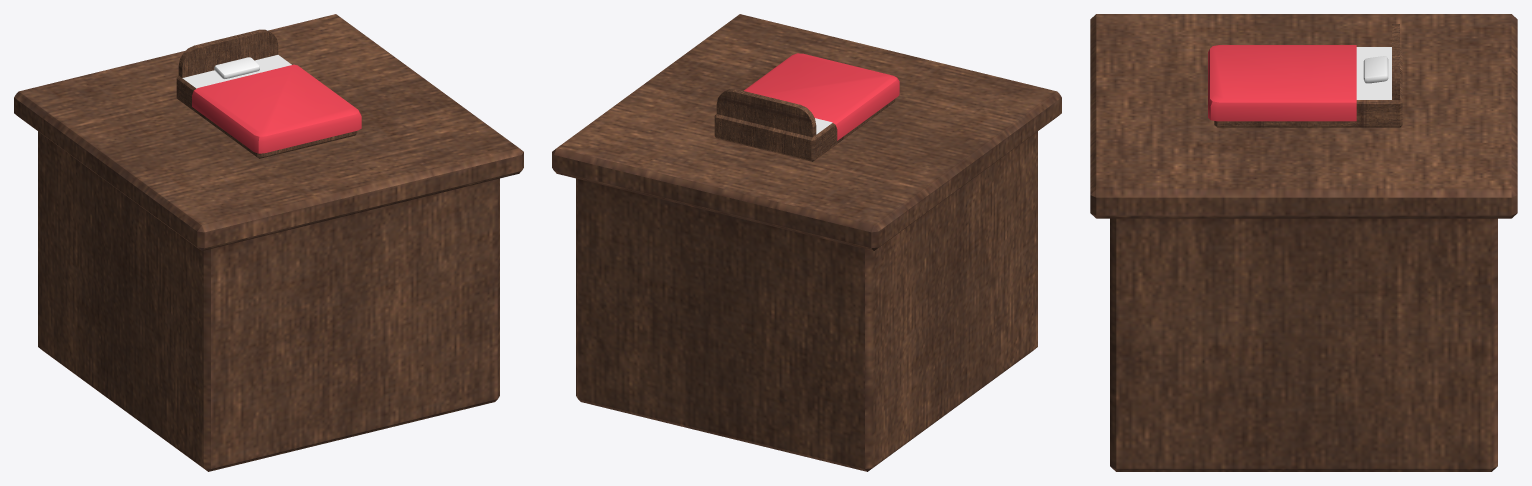
Rendered from pedestal.fbx.
3 views of the same model, side by side, from view 1: azimuth 30°, elevation 25°; view 2: azimuth 150°, elevation 25°; view 3: azimuth 270°, elevation 25° (orthographic). The views are drawn at different scales.
Visible parts, largest first — view 1: Pedestal, MiniBed; view 2: Pedestal, MiniBed; view 3: Pedestal, MiniBed.
Boxes of the visible parts, <box> form: Pedestal: <box>14,14,523,471</box>; MiniBed: <box>176,29,361,158</box>; Pedestal: <box>552,14,1061,471</box>; MiniBed: <box>714,53,899,161</box>; Pedestal: <box>1090,14,1517,471</box>; MiniBed: <box>1208,24,1402,127</box>.
Size of the model in its own units: 200 by 180 by 200.
Materials: 1 (1 with a texture image).
